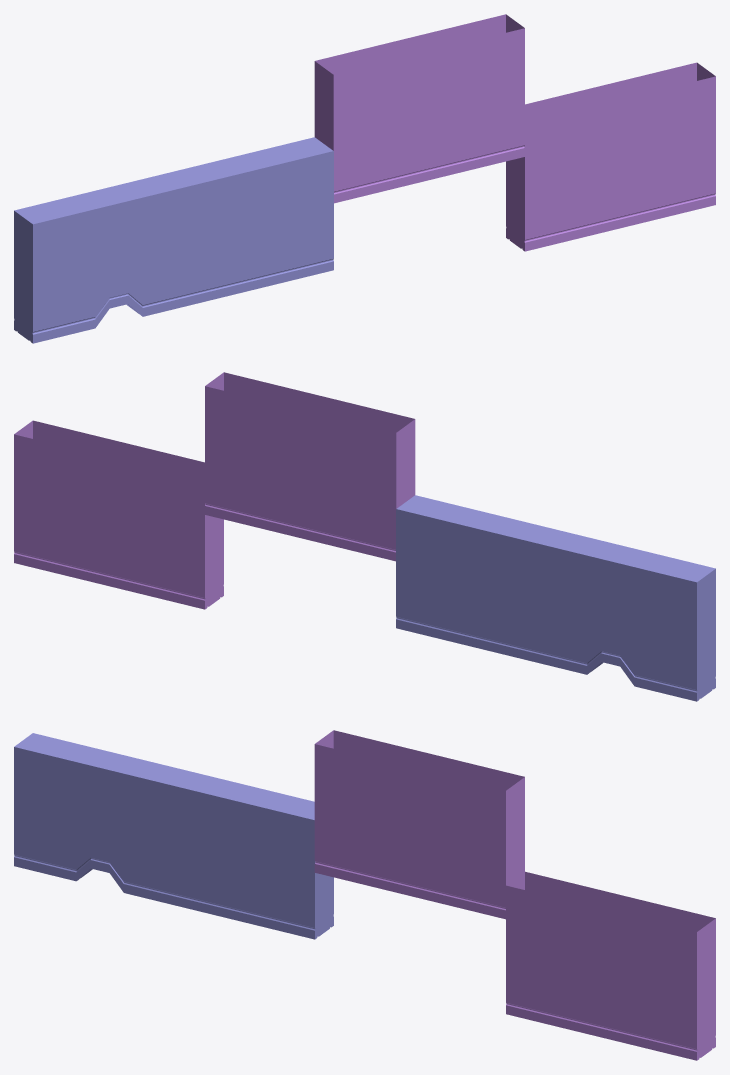
Rendered from GDT_Ceiling.fbx.
The picture shows the model from 3 angles, top to bottom: view 1: azimuth 30°, elevation 25°; view 2: azimuth 150°, elevation 25°; view 3: azimuth 330°, elevation 25°; orthographic projection.
Visible parts, largest first — view 1: Ceiling1, Ceiling2, Ceiling3; view 2: Ceiling1, Ceiling2, Ceiling3; view 3: Ceiling1, Ceiling3, Ceiling2.
Boxes of the visible parts, x1,y1,x2,y2 form: Ceiling1: [14, 137, 333, 343]; Ceiling2: [314, 14, 524, 203]; Ceiling3: [506, 62, 715, 251]; Ceiling1: [396, 495, 715, 701]; Ceiling2: [205, 372, 415, 561]; Ceiling3: [14, 420, 223, 609]; Ceiling1: [14, 733, 333, 939]; Ceiling3: [506, 871, 715, 1060]; Ceiling2: [314, 730, 524, 919].
Size of the model in its own units: 490 by 153 by 23.6.
